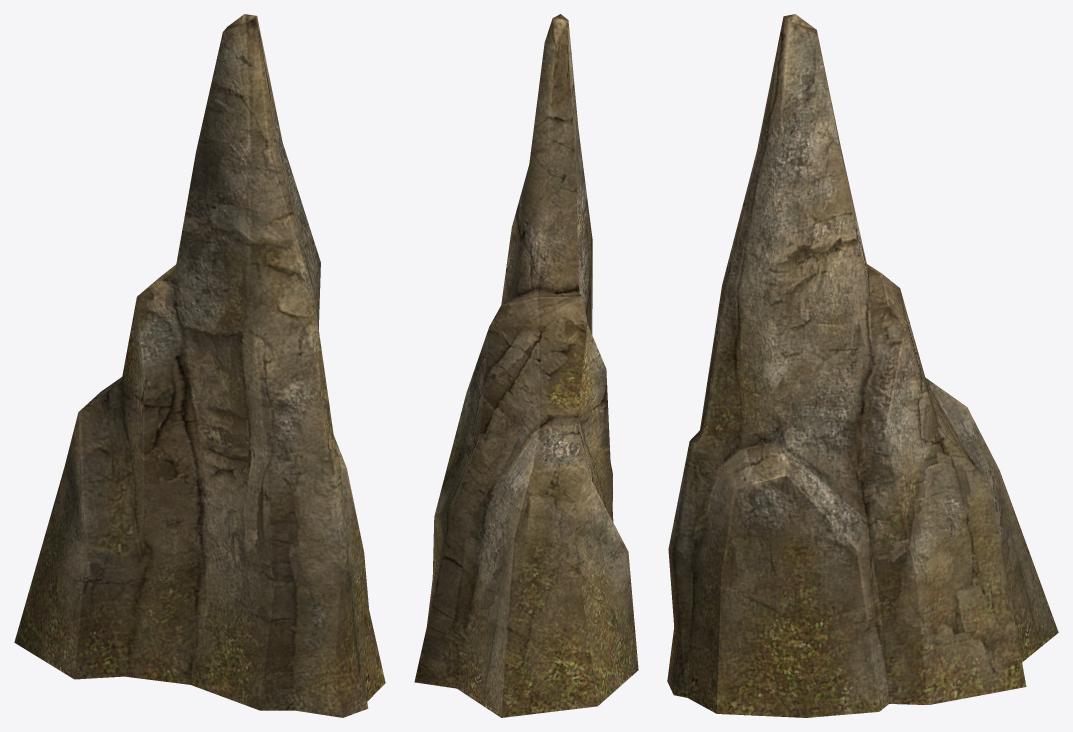
The model's file is trigonal_rock_03.fbx.
The picture shows the model from 3 angles, left to right: view 1: azimuth 30°, elevation 25°; view 2: azimuth 150°, elevation 25°; view 3: azimuth 270°, elevation 25°; orthographic projection. The views are drawn at different scales.
Parts seen in each view (by area): view 1: objtrigonal_rock_03; view 2: objtrigonal_rock_03; view 3: objtrigonal_rock_03.
Part boxes in pixels (x1,y1,x2,y2): objtrigonal_rock_03: (14, 14, 385, 717); objtrigonal_rock_03: (414, 14, 638, 717); objtrigonal_rock_03: (667, 14, 1058, 717).
Bounding box in the file's own units: 5.53 × 14.29 × 7.77.
